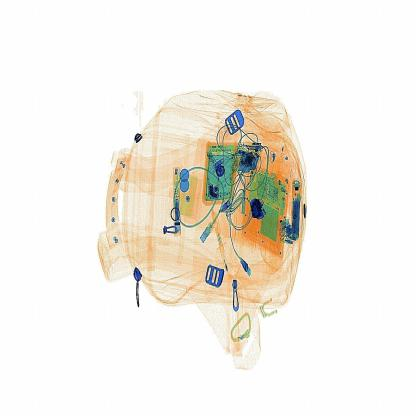scissors: (243, 191, 274, 227)
